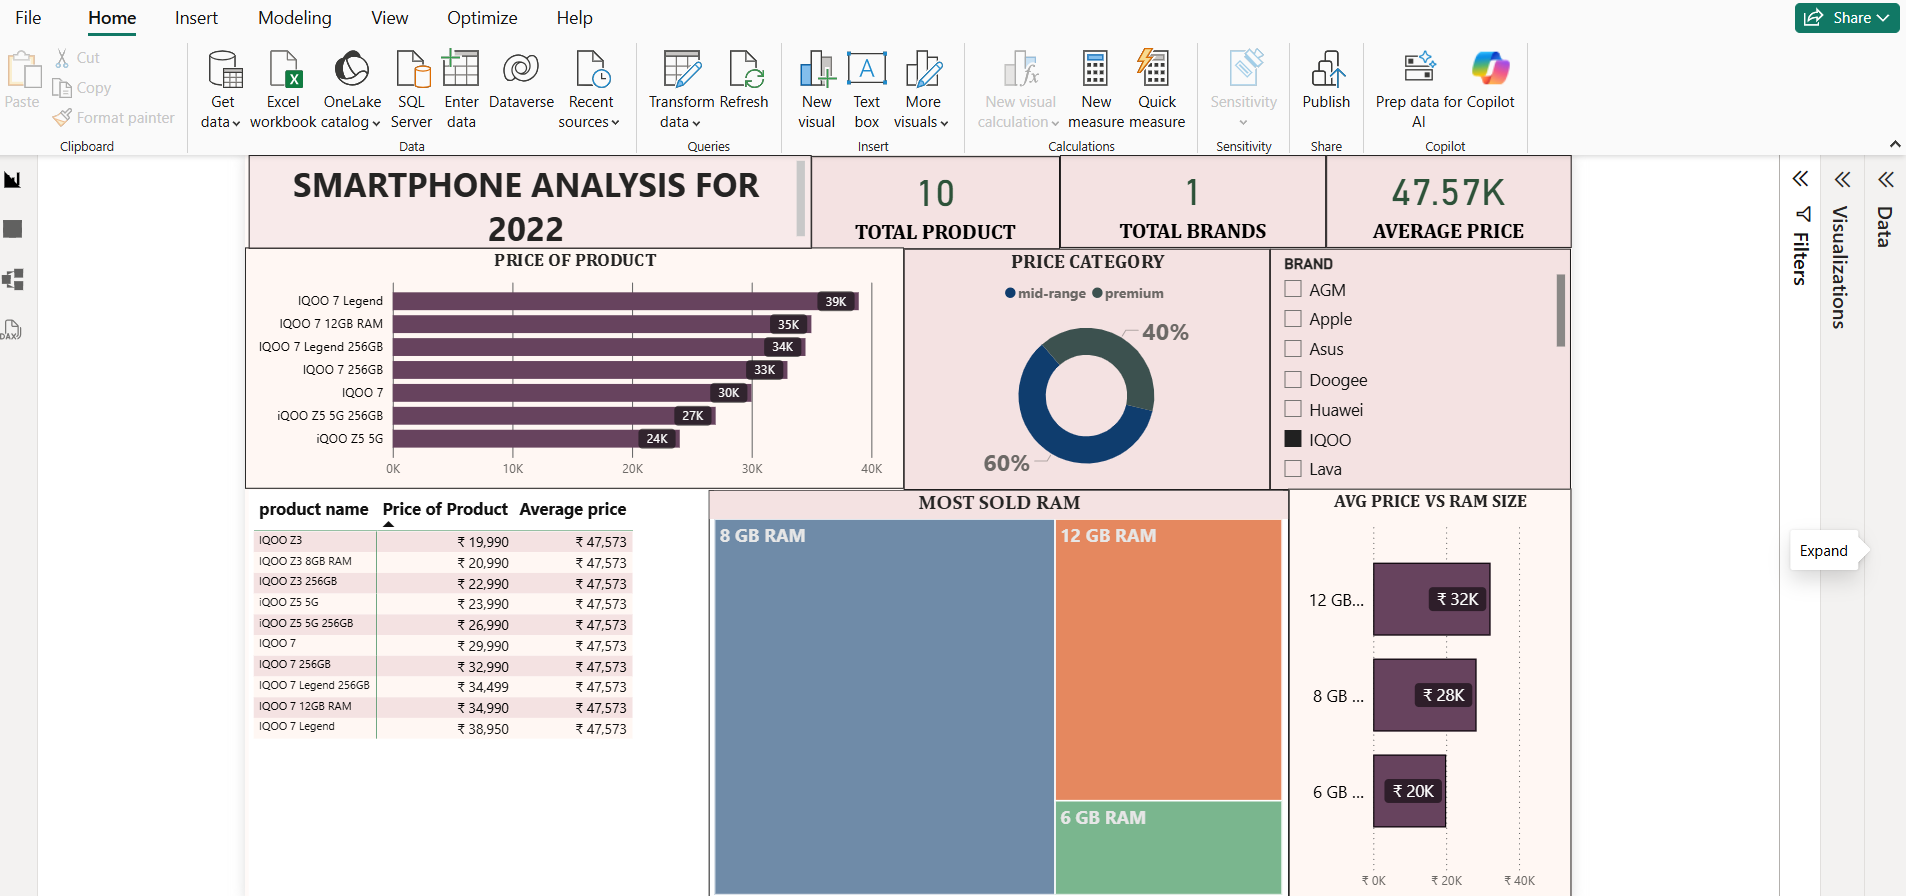

What the dashboard file says about the page in this screenshot:
{"tool":"powerbi","page":{"name":"Page 10","canvas":[1280,720],"ordinal":9},"visuals":[{"type":"card","fields":{"Values":["CountNonNull(mysmartprice.product name)"]},"box":[546.5,1.2,240.1,89.3],"z":0},{"type":"card","fields":{"Values":["Count(mysmartprice.brand)"]},"box":[786.6,0,257,89.3],"z":1000},{"type":"card","fields":{"Values":["mysmartprice.avgpop"]},"box":[1043.6,0,236.5,89.3],"z":2000},{"type":"barChart","title":"PRICE OF PRODUCT","fields":{"Category":["mysmartprice.product name"],"Y":["Max(mysmartprice.Price of product(available))"]},"box":[0,89.3,635.8,232.8],"z":3000},{"type":"pivotTable","fields":{"Rows":["mysmartprice.product name"],"Values":["Sum(mysmartprice.Price of product(available))","mysmartprice.avgpop"]},"box":[3.6,323.3,456,396.9],"z":4000},{"type":"slicer","fields":{"Values":["mysmartprice.brand"]},"box":[989.3,90.5,290.8,232.8],"z":5000},{"type":"donutChart","title":"PRICE CATEGORY ","fields":{"Y":["CountNonNull(mysmartprice.product name)"],"Category":["mysmartprice.price_cat"]},"box":[635.8,90.5,353.5,232.8],"z":6000},{"type":"barChart","title":"AVG PRICE VS RAM SIZE","fields":{"Category":["mysmartprice.ram of phone"],"Y":["Avg(mysmartprice.pop)"]},"box":[1007.4,322.1,272.7,398.1],"z":7000},{"type":"treemap","title":"MOST SOLD RAM","fields":{"Group":["mysmartprice.ram of phone"],"Values":["CountNonNull(mysmartprice.brand)"]},"box":[447.6,323.3,559.8,396.9],"z":8000},{"type":"textbox","box":[3.6,0,542.9,90.5],"z":9000}]}

Visuals, with their boxes on the page's 1280x720 design canvas (x1, y1, x2, y2). These are canvas units, not pixel positions in the 1906x896 screenshot, which may show the page scaled, cropped or inside an application window:
card - CountNonNull(mysmartprice.product name): <box>546,1,787,90</box>
card - Count(mysmartprice.brand): <box>787,0,1044,89</box>
card - mysmartprice.avgpop: <box>1044,0,1280,89</box>
"PRICE OF PRODUCT" barChart: <box>0,89,636,322</box>
pivotTable - mysmartprice.product name x Sum(mysmartprice.Price of product(available)): <box>4,323,460,720</box>
slicer - mysmartprice.brand: <box>989,90,1280,323</box>
"PRICE CATEGORY " donutChart: <box>636,90,989,323</box>
"AVG PRICE VS RAM SIZE" barChart: <box>1007,322,1280,720</box>
"MOST SOLD RAM" treemap: <box>448,323,1007,720</box>
textbox: <box>4,0,546,90</box>
